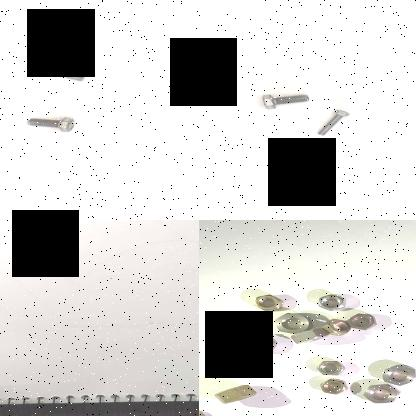Bolts: (313, 104, 351, 139), (28, 63, 87, 85), (254, 90, 318, 110), (24, 115, 76, 135)
NUTS: (235, 331, 280, 355), (284, 325, 332, 347), (210, 384, 256, 406), (358, 387, 405, 406), (250, 292, 288, 314), (344, 308, 378, 332), (380, 364, 416, 386), (315, 356, 349, 378), (315, 293, 347, 313), (323, 316, 352, 338), (316, 379, 352, 395)
